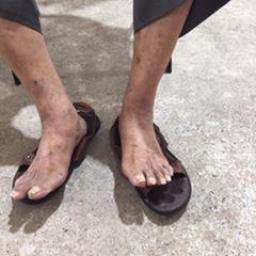Front View -Both Feet-: (7, 75, 175, 213)
